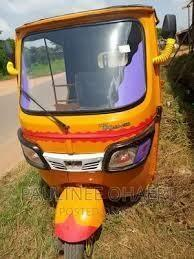keke: (13, 2, 170, 254)
